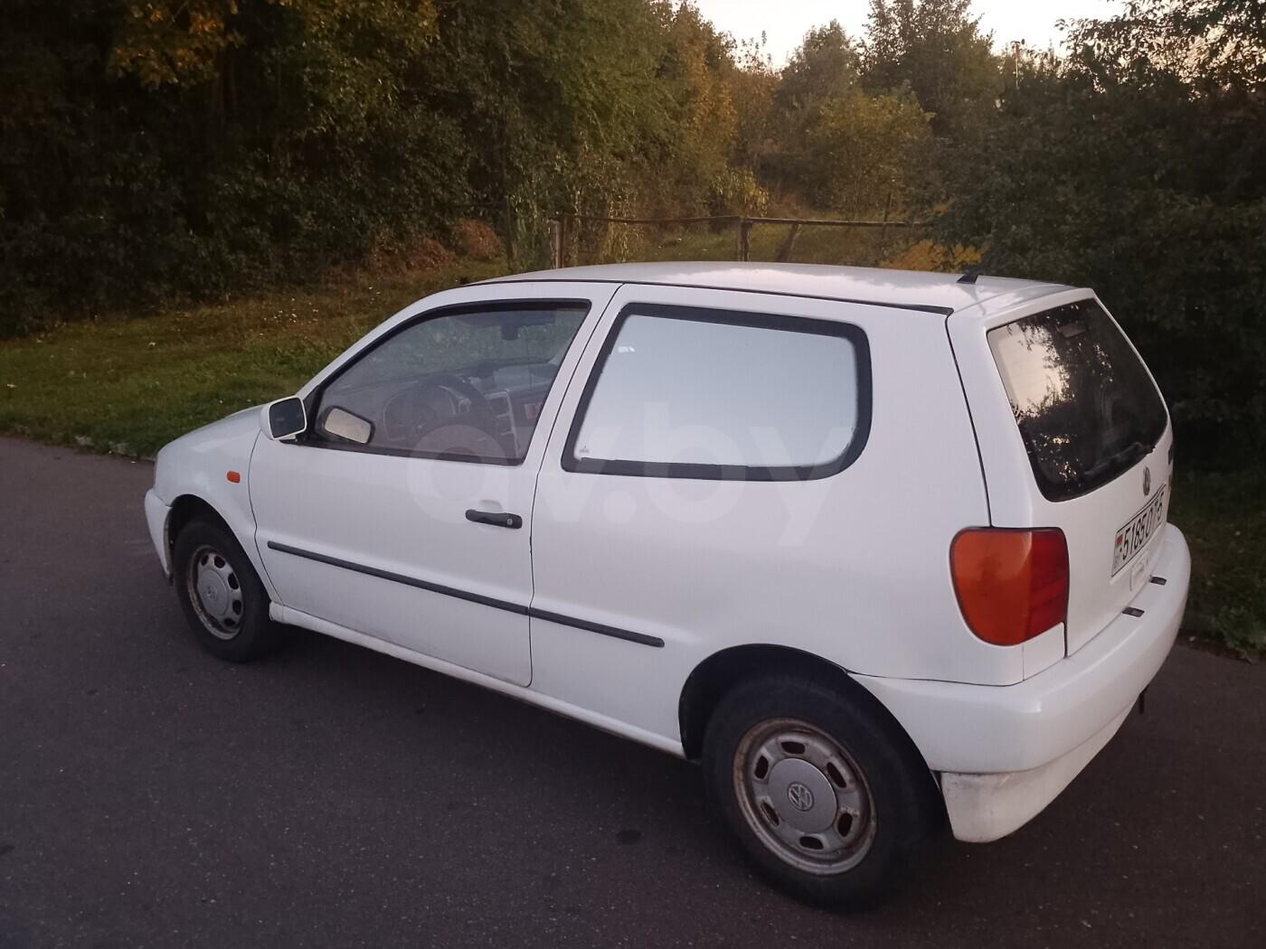Polo_1994-2002: (113, 263, 1191, 897)
